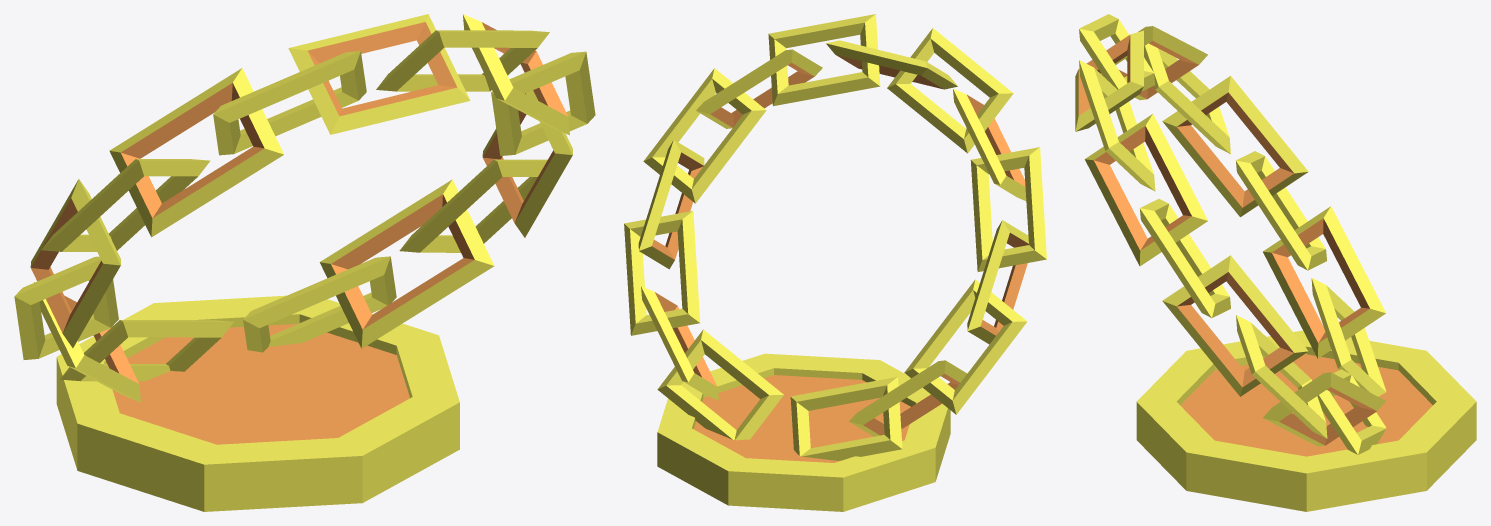
Rendered from hat-chains.glb.
The picture shows the model from 3 angles, left to right: view 1: azimuth 30°, elevation 25°; view 2: azimuth 150°, elevation 25°; view 3: azimuth 270°, elevation 25°; orthographic projection. The views are drawn at different scales.
Visible parts, largest first — view 1: hat-chains; view 2: hat-chains; view 3: hat-chains.
Boxes of the visible parts, x1,y1,x2,y2 form: hat-chains: (14, 14, 595, 511); hat-chains: (624, 14, 1046, 511); hat-chains: (1075, 14, 1476, 511).
Size of the model in its own units: 1.23 by 1.03 by 0.9442.
Materials: 1 (1 with a texture image).
